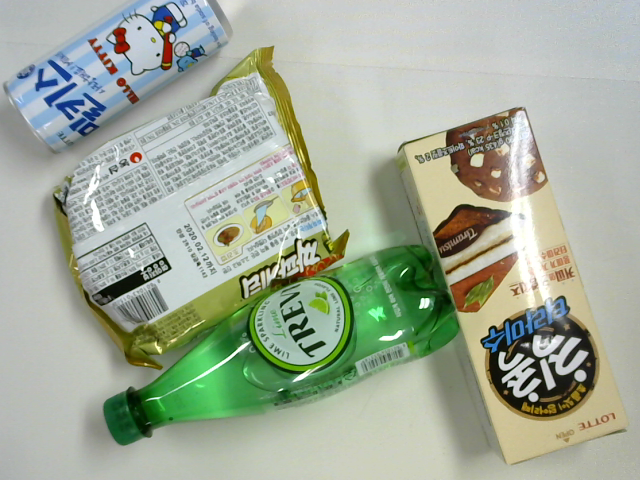Chicchok_Tiramisu: (395, 108, 631, 466)
Milkies_250ml: (5, 1, 233, 154)
Olive_Chapaghetti: (45, 46, 349, 370)
Treviraim_500ml: (103, 245, 462, 445)
